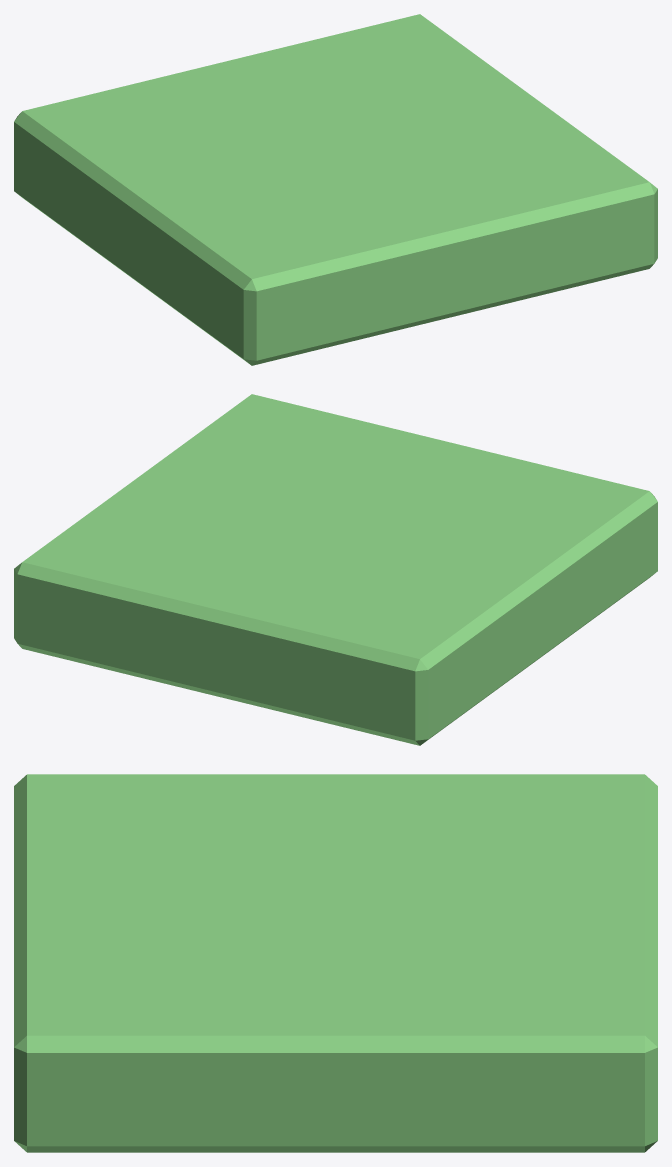
File: Floor.fbx
3 views of the same model, one above another, from view 1: azimuth 30°, elevation 25°; view 2: azimuth 150°, elevation 25°; view 3: azimuth 270°, elevation 25° (orthographic). The views are drawn at different scales.
Parts seen in each view (by area): view 1: pCube1; view 2: pCube1; view 3: pCube1.
Boxes of the visible parts, <box> form: pCube1: <box>14,14,657,365</box>; pCube1: <box>14,394,657,745</box>; pCube1: <box>14,774,657,1152</box>.
Size of the model in its own units: 1 by 0.2 by 1.
